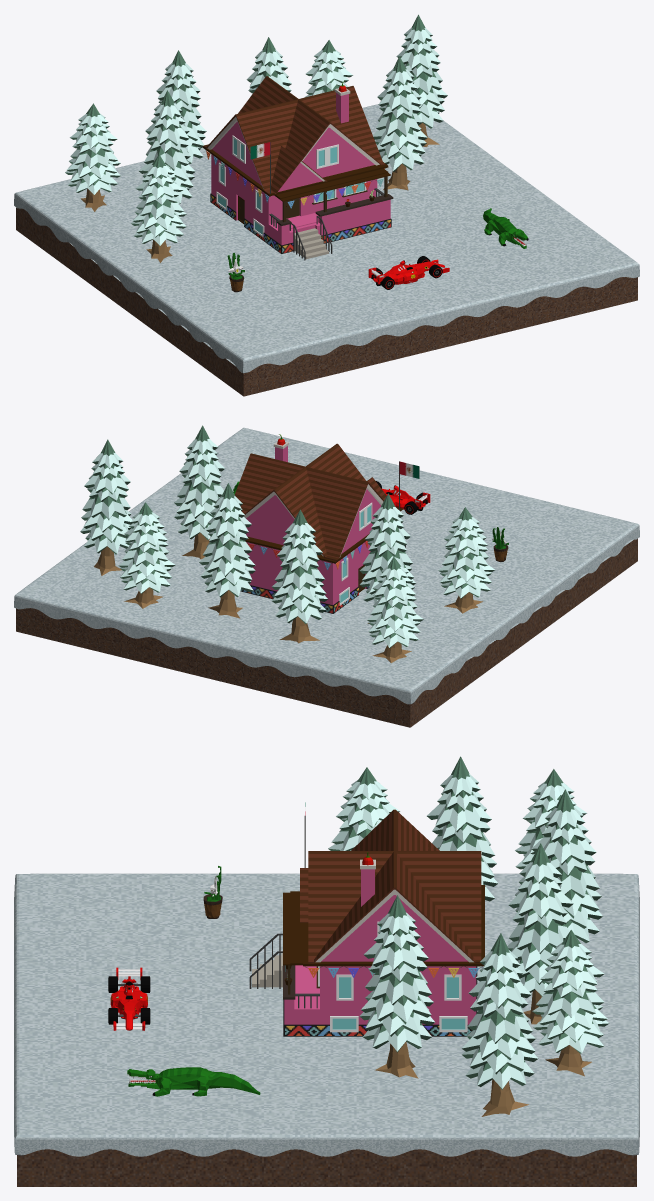
The picture shows the model from 3 angles, top to bottom: view 1: azimuth 30°, elevation 25°; view 2: azimuth 150°, elevation 25°; view 3: azimuth 270°, elevation 25°; orthographic projection. The views are drawn at different scales.
Visible parts, largest first — view 1: Cube.003, Cube.1005, VEHICLES_FORMULA_1, ANIMAL_COCODRILO; view 2: Cube.003, Cube.1005, VEHICLES_FORMULA_1; view 3: Cube.003, Cube.1005, ANIMAL_COCODRILO, VEHICLES_FORMULA_1, OBJRANDOM_MONJA BLANCA.
Boxes of the visible parts, x1,y1,x2,y2 form: Cube.003: (14, 14, 639, 396); Cube.1005: (202, 76, 393, 260); VEHICLES_FORMULA_1: (368, 256, 449, 289); ANIMAL_COCODRILO: (483, 208, 528, 248); Cube.003: (14, 425, 639, 727); Cube.1005: (234, 434, 419, 613); VEHICLES_FORMULA_1: (376, 481, 430, 514); Cube.003: (14, 756, 639, 1186); Cube.1005: (249, 802, 484, 1036); ANIMAL_COCODRILO: (127, 1067, 260, 1096); VEHICLES_FORMULA_1: (108, 967, 150, 1030); OBJRANDOM_MONJA BLANCA: (203, 866, 222, 918).
Bounding box in the file's own units: 4040 × 1665 × 4040.
Materials: 70 (5 with a texture image).
